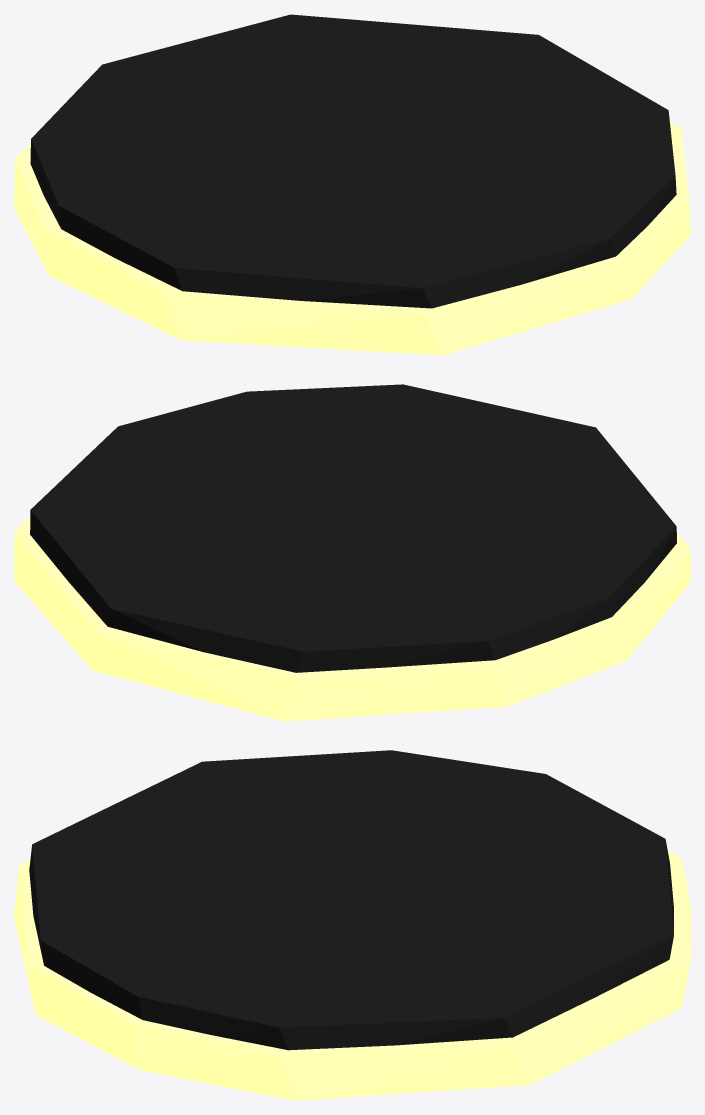
Rendered from movingdjdisk2.glb.
3 renders of one model, top to bottom at view 1: azimuth 30°, elevation 25°; view 2: azimuth 150°, elevation 25°; view 3: azimuth 270°, elevation 25°, orthographic. The views are drawn at different scales.
Parts seen in each view (by area): view 1: disc2 moving; view 2: disc2 moving; view 3: disc2 moving.
Part boxes in pixels (x1,y1,x2,y2): disc2 moving: [14, 14, 690, 355]; disc2 moving: [14, 384, 690, 721]; disc2 moving: [14, 750, 690, 1100].
Bounding box in the file's own units: 0.3939 × 0.0411 × 0.3858.
